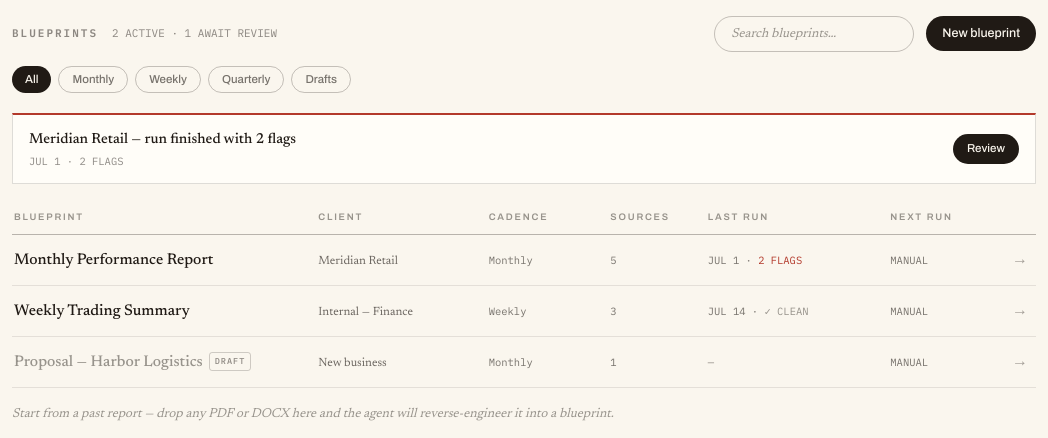
LibraryView › filters the ledger to drafts when the Drafts pill is clicked
The image size is (1048, 438).
Check: the text "Monthly Performance Report" is shown, box left=14, top=252, right=213, bottom=268
Check: the text "Weekly Trading Summary" is shown, box left=14, top=304, right=190, bottom=319
Click the button "Drafts" at [321, 79], box left=291, top=66, right=351, bottom=93
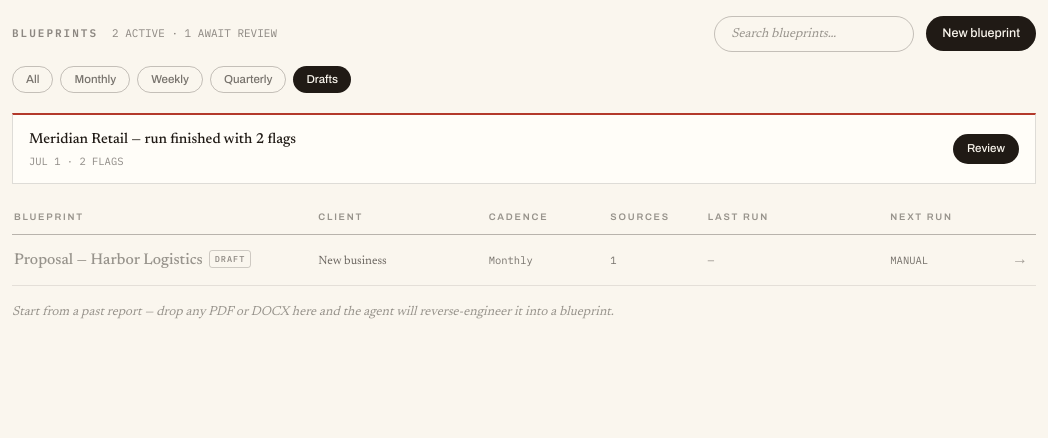
Check: the text "Proposal — Harbor Logistics" is shown, box left=14, top=252, right=203, bottom=268
Check: the link "Monthly Performance Report" is gone
Check: the link "Weekly Trading Summary" is gone
